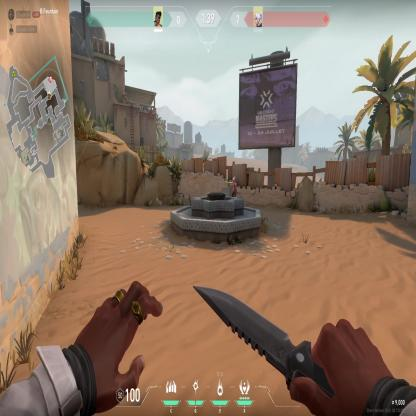enemy: (228, 175, 239, 197)
